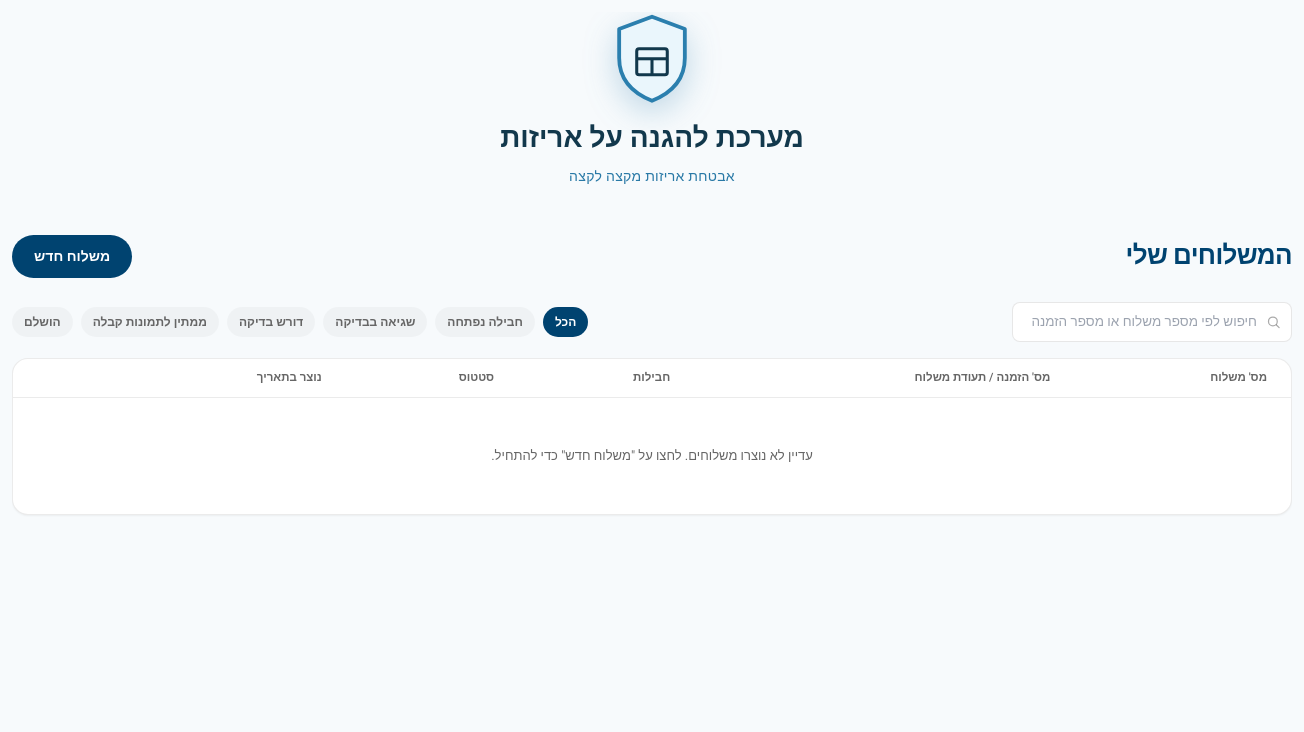
DeliveriesPage › distinguishes an empty history from a filter that matched nothing
Expected: the text "עדיין לא נוצרו משלוחים. לחצו על \"משלוח חדש\" כדי להתחיל." is shown, [13,398,1291,514]
Click the button "הושלם": {"x": 42, "y": 322} [12,307,73,337]
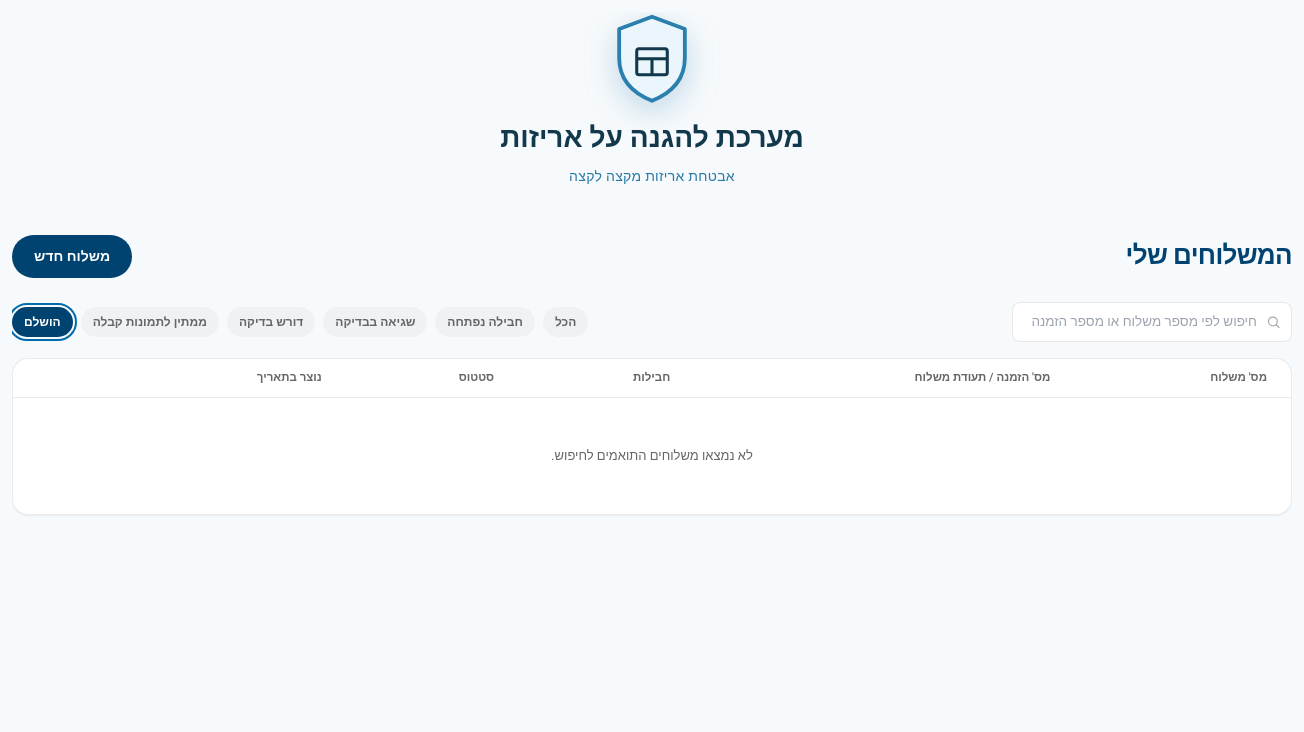
Expected: the text "לא נמצאו משלוחים התואמים לחיפוש." is shown, [13,398,1291,514]
Expected: the text "עדיין לא נוצרו משלוחים" is gone
